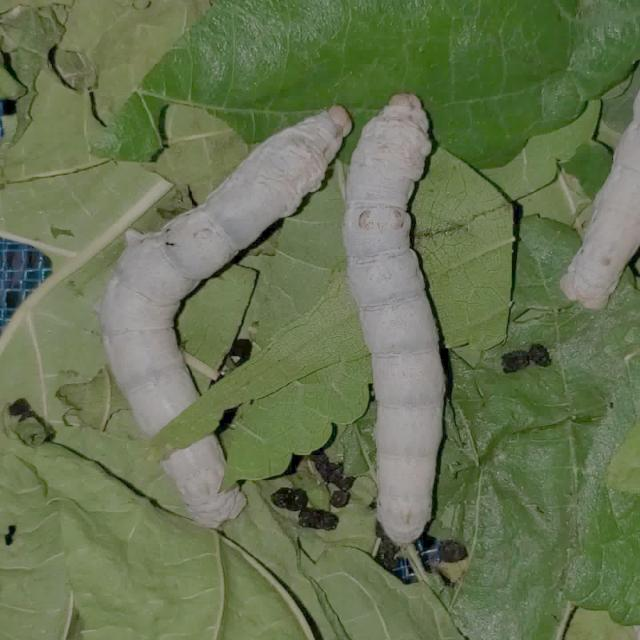Healthy: (89, 92, 328, 537), (337, 81, 463, 548)
